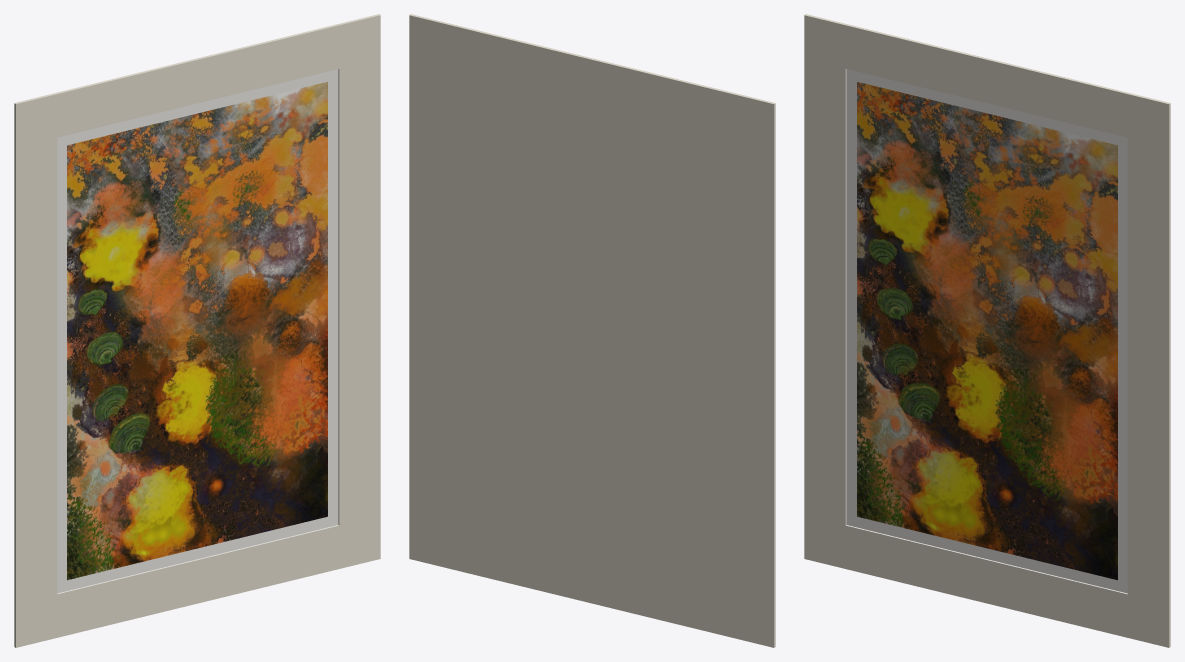
File: os019_moyen_passe-partout.glb
3 renders of one model, left to right at view 1: azimuth 30°, elevation 25°; view 2: azimuth 150°, elevation 25°; view 3: azimuth 330°, elevation 25°, orthographic.
Visible parts, largest first — view 1: os019_moyen_passe-partout; view 2: os019_moyen_passe-partout; view 3: os019_moyen_passe-partout.
Boxes of the visible parts, x1,y1,x2,y2 form: os019_moyen_passe-partout: [14, 14, 380, 647]; os019_moyen_passe-partout: [409, 14, 775, 647]; os019_moyen_passe-partout: [804, 14, 1170, 647].
Size of the model in its own units: 0.7024 by 1 by 0.0055.
Materials: 4 (1 with a texture image).
